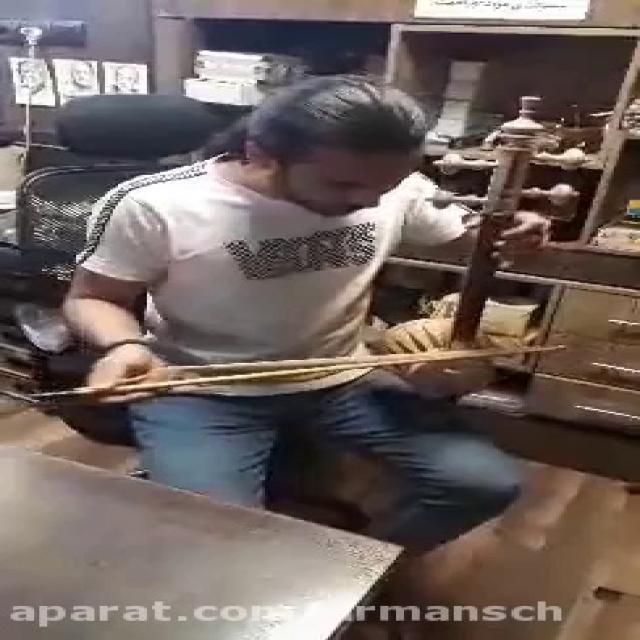Kamanche: (364, 89, 626, 407)
